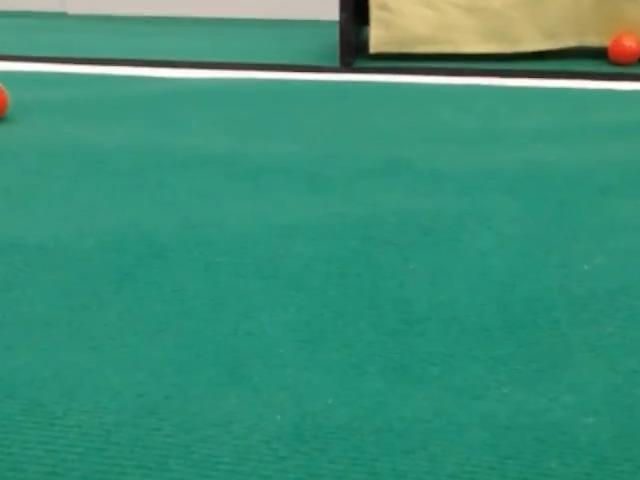Ball: (607, 32, 639, 65), (0, 83, 8, 119)
